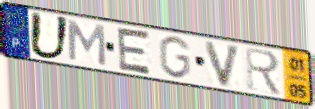E: (115, 25, 153, 77)
G: (157, 35, 193, 81)
M: (66, 18, 108, 68)
R: (243, 45, 284, 98)
U: (27, 10, 72, 61)
V: (202, 39, 244, 89)
